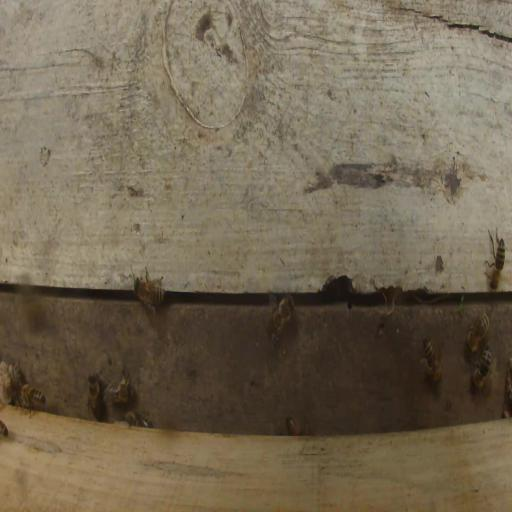nonpollenbee: (132, 265, 168, 320), (264, 294, 295, 350), (483, 225, 507, 292), (104, 364, 133, 409), (464, 312, 491, 360), (420, 336, 442, 387), (470, 340, 491, 390), (20, 382, 47, 419), (87, 371, 104, 423), (120, 410, 153, 428), (12, 361, 24, 406), (285, 416, 311, 436)
